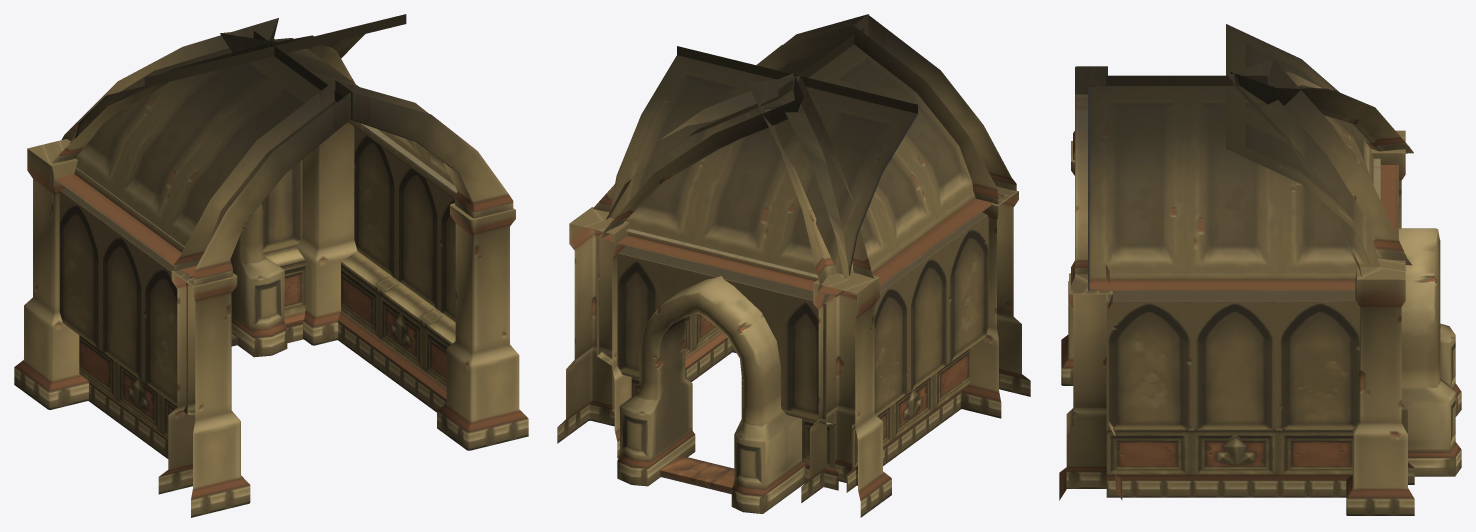
Rendered from wall1-door3.FBX.
The picture shows the model from 3 angles, left to right: view 1: azimuth 30°, elevation 25°; view 2: azimuth 150°, elevation 25°; view 3: azimuth 270°, elevation 25°; orthographic projection. The views are drawn at different scales.
Parts seen in each view (by area): view 1: wall1-door3; view 2: wall1-door3; view 3: wall1-door3.
Boxes of the visible parts, <box> form: wall1-door3: <box>14,14,528,517</box>; wall1-door3: <box>557,14,1030,517</box>; wall1-door3: <box>1059,24,1461,515</box>.
Bounding box in the file's own units: 638 × 689 × 674.
